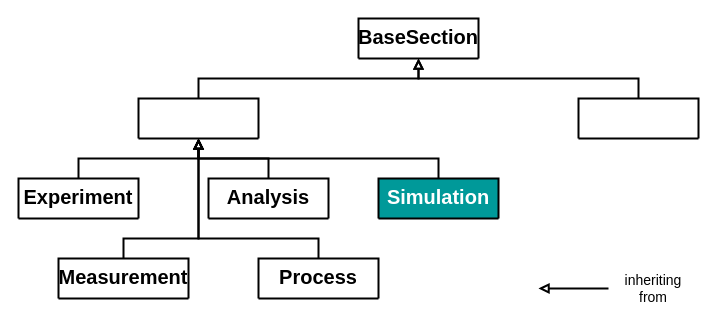
This 716x321 diagram has some shape labels left out. Here are the shapes that lost their labels. From the top down, the centre of each, then its label:
point 198,118: Activity
point 638,118: Entity
